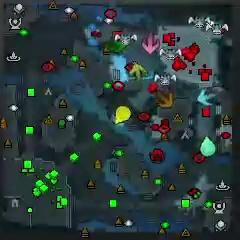p2: (200, 136, 216, 157)
p4: (114, 106, 131, 124)
x1: (142, 34, 160, 54)
x2: (130, 63, 148, 79)
x3: (197, 88, 218, 106)
x4: (106, 36, 127, 54)
x5: (157, 89, 174, 108)
